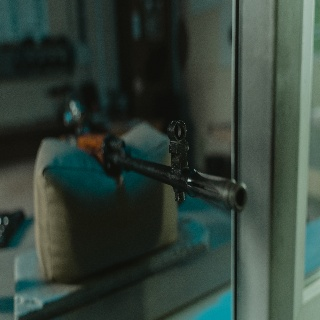pistol: (1, 209, 26, 250)
rifle: (57, 98, 248, 213)
